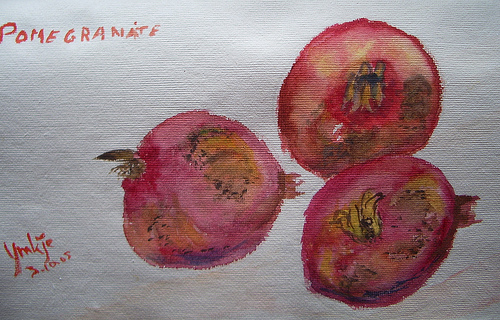pomogranate: (92, 109, 304, 275), (302, 153, 485, 310), (276, 16, 446, 183)
